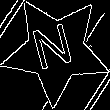N_S: (31, 21, 81, 80)
